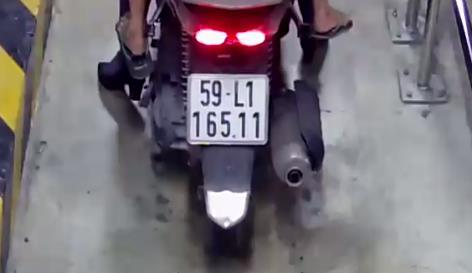lisence: (186, 74, 268, 144)
